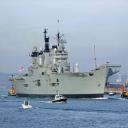Portanaves: (6, 20, 125, 102)
